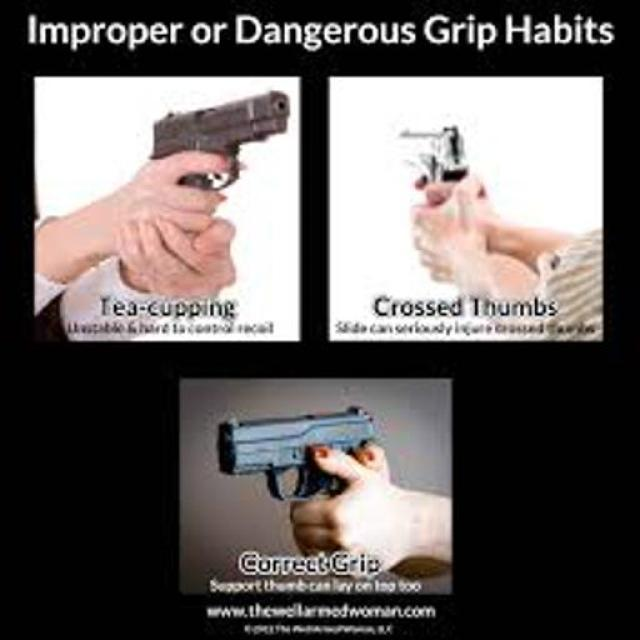pistol: (212, 397, 386, 517), (141, 88, 290, 204), (395, 121, 471, 196)
